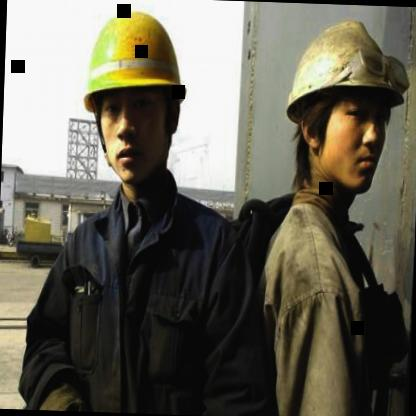helmet: (272, 10, 414, 214), (70, 2, 200, 201)
